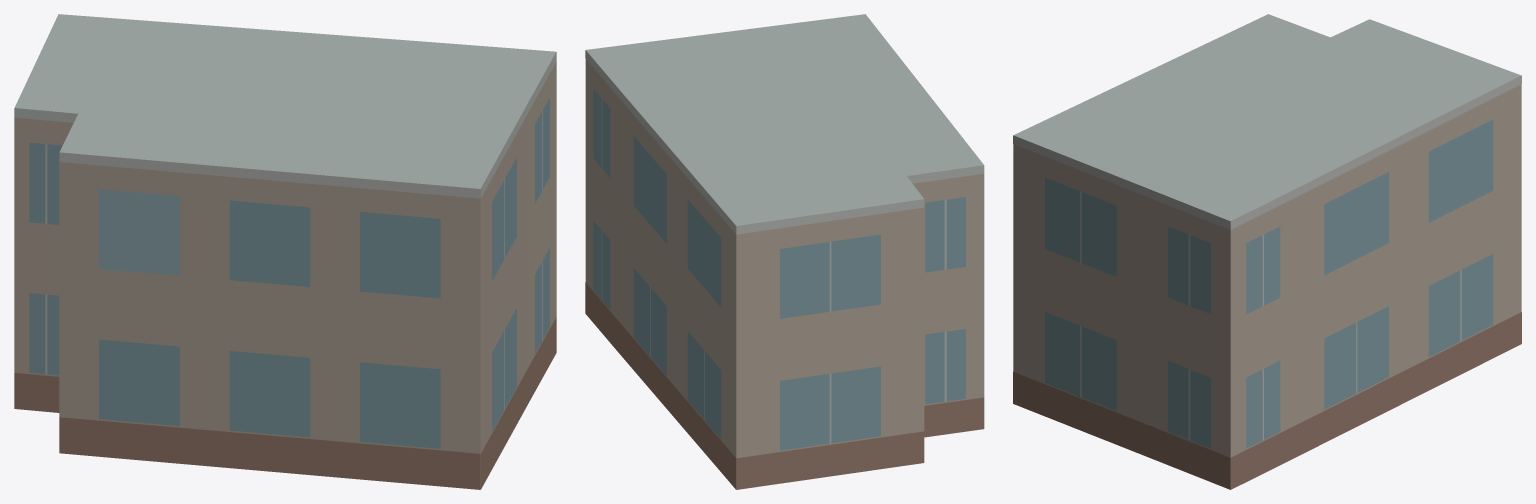
The model's file is survey-upis-32610471.glb.
The picture shows the model from 3 angles, left to right: view 1: azimuth 30°, elevation 25°; view 2: azimuth 150°, elevation 25°; view 3: azimuth 270°, elevation 25°; orthographic projection. The views are drawn at different scales.
Visible parts, largest first — view 1: survey-upis-32610471.tmp; view 2: survey-upis-32610471.tmp; view 3: survey-upis-32610471.tmp.
Part boxes in pixels (x1,y1,x2,y2): survey-upis-32610471.tmp: (14,14,556,489); survey-upis-32610471.tmp: (585,14,984,489); survey-upis-32610471.tmp: (1013,14,1521,489).
Size of the model in its own units: 12.59 by 7.6 by 13.05.
